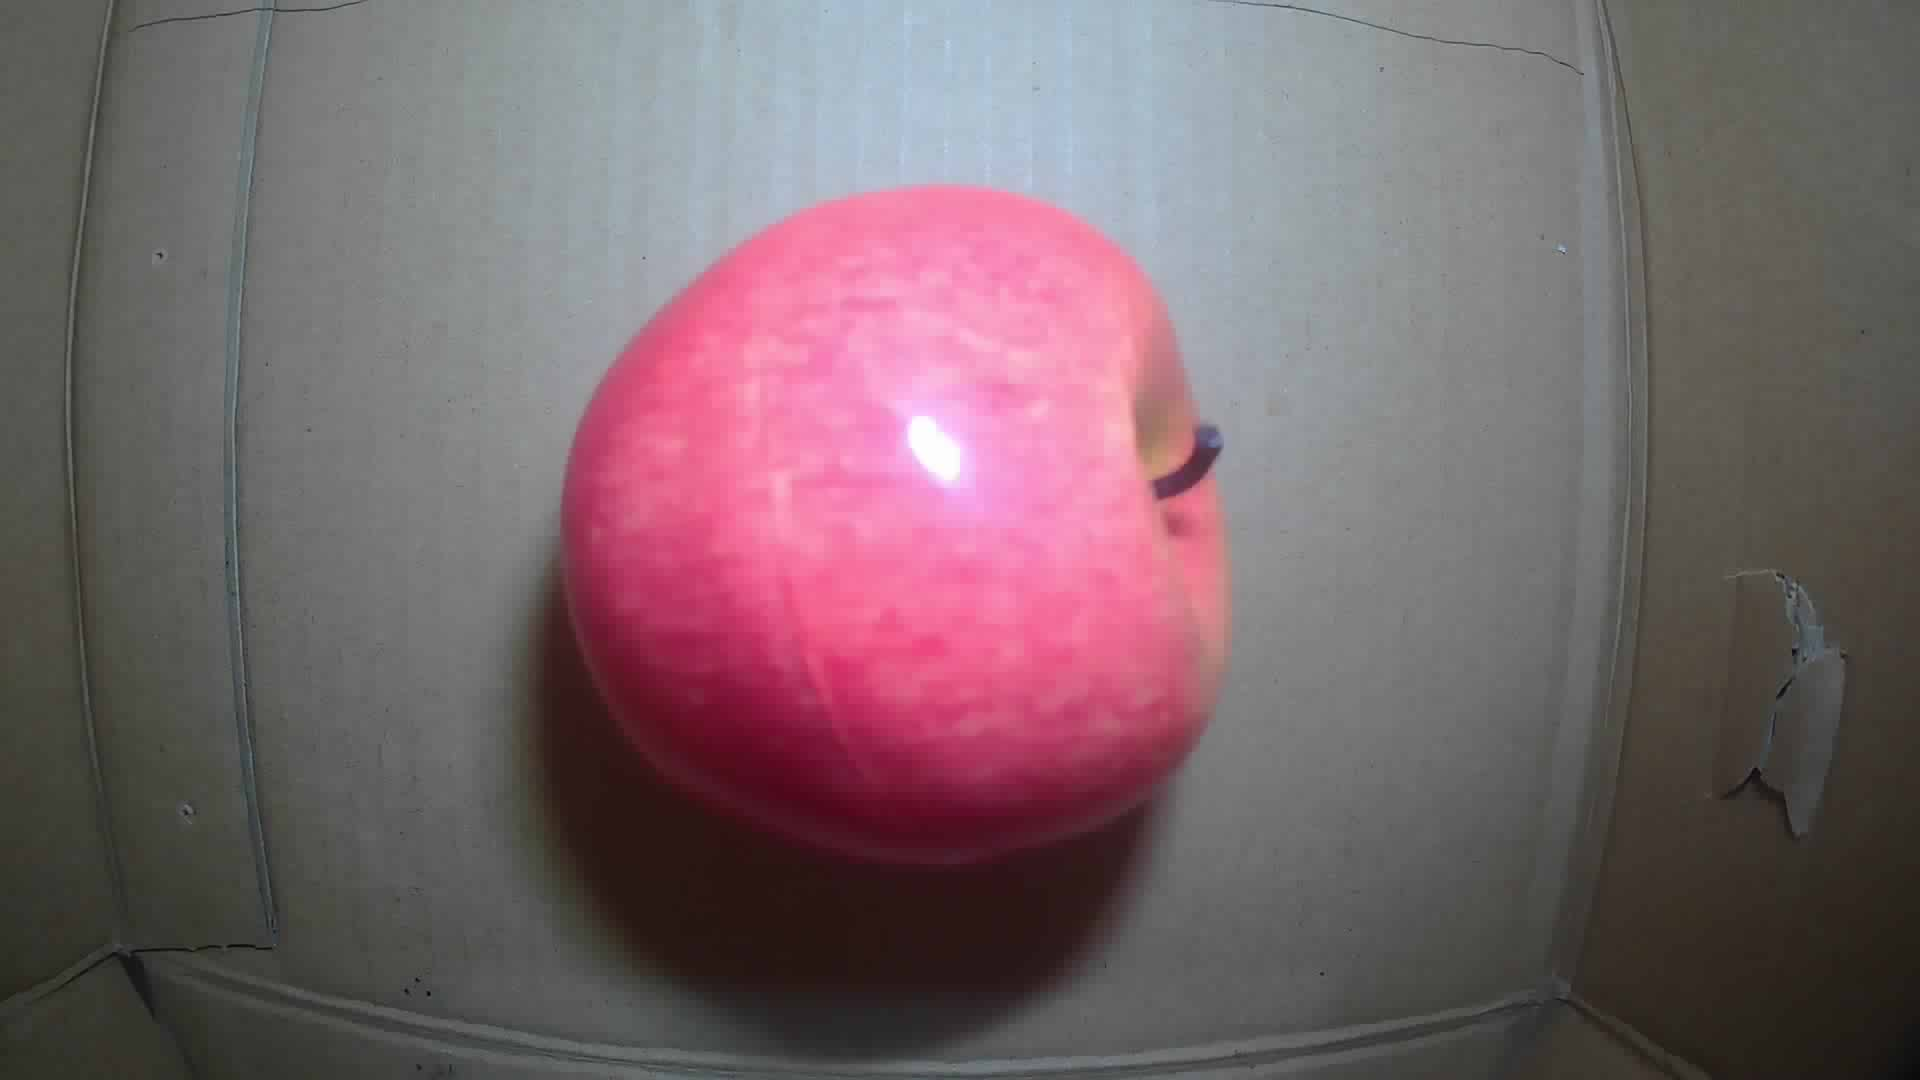apple: (555, 183, 1228, 868)
